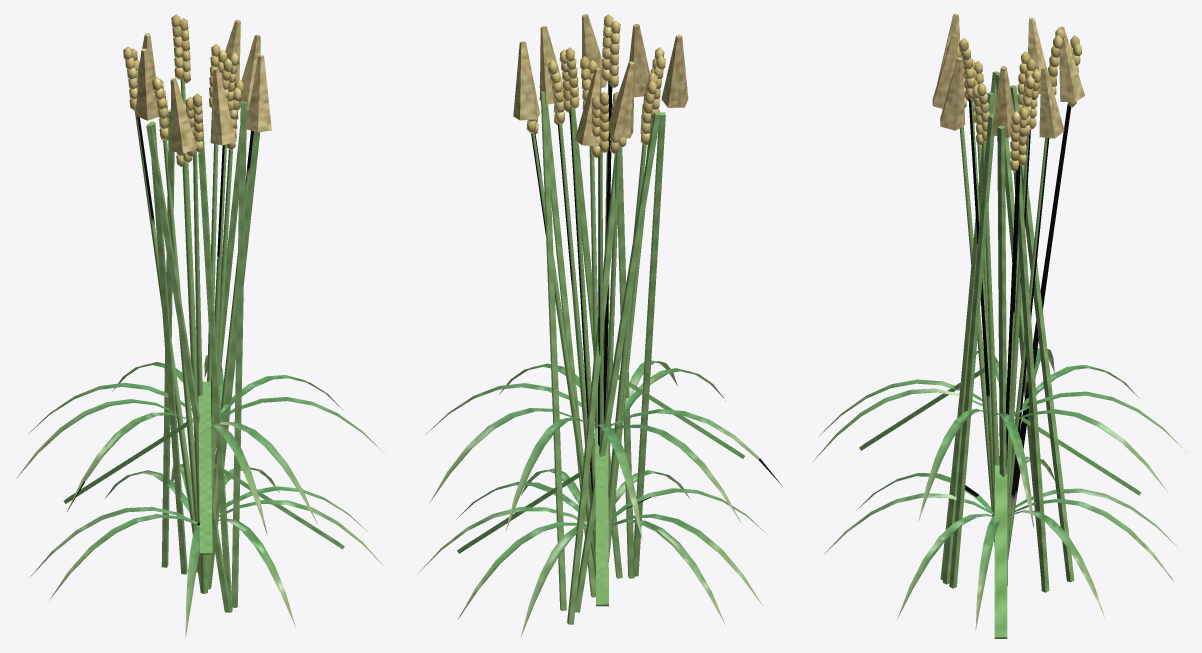
File: trigo.glb
The picture shows the model from 3 angles, left to right: view 1: azimuth 30°, elevation 25°; view 2: azimuth 150°, elevation 25°; view 3: azimuth 270°, elevation 25°; orthographic projection. The views are drawn at different scales.
Parts seen in each view (by area): view 1: trigo_lp, trigo; view 2: trigo, trigo_lp; view 3: trigo_lp, trigo.
Boxes of the visible parts, x1=… form: trigo_lp: x1=63, y1=19, x2=344, y2=612; trigo: x1=16, y1=14, x2=385, y2=637; trigo: x1=417, y1=14, x2=782, y2=637; trigo_lp: x1=457, y1=14, x2=744, y2=624; trigo_lp: x1=859, y1=14, x2=1141, y2=638; trigo: x1=813, y1=27, x2=1187, y2=630.
Size of the model in its own units: 0.5846 by 0.9752 by 0.5941.
Materials: 2 (2 with a texture image).
